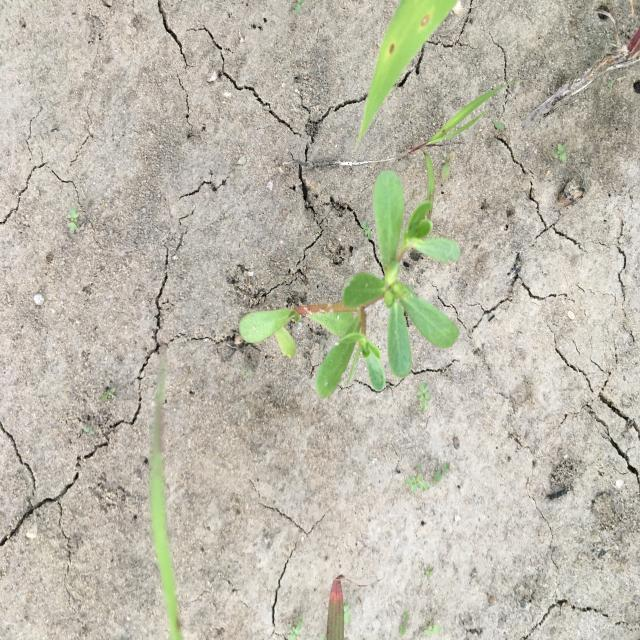Purslane: (236, 169, 462, 402)
